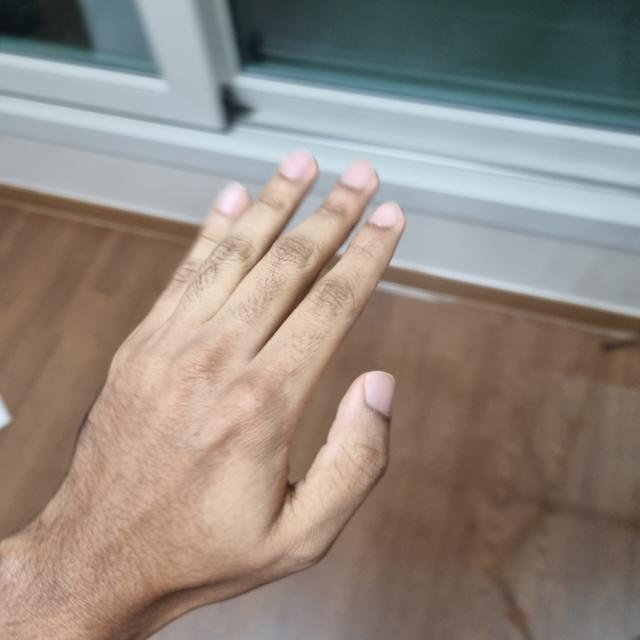Paper: (57, 154, 401, 605)
